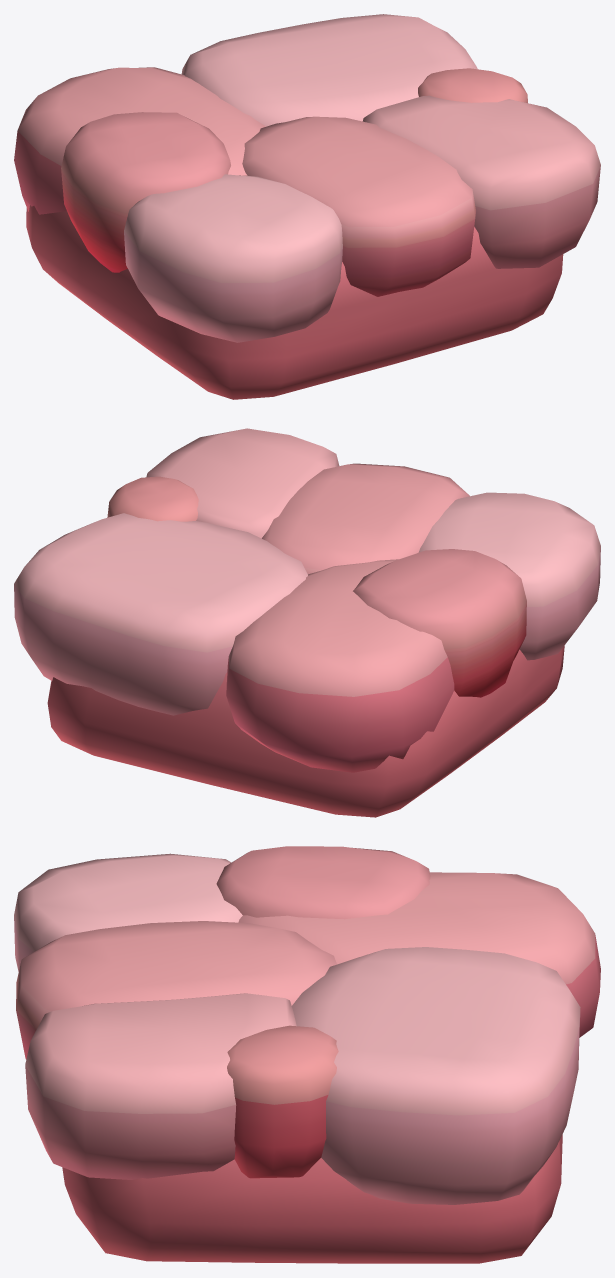
The model's file is Platform_B_06.glb.
The picture shows the model from 3 angles, top to bottom: view 1: azimuth 30°, elevation 25°; view 2: azimuth 150°, elevation 25°; view 3: azimuth 270°, elevation 25°; orthographic projection. The views are drawn at different scales.
Visible parts, largest first — view 1: Platform_B_06; view 2: Platform_B_06; view 3: Platform_B_06.
Part boxes in pixels (box(x1,y1,x2,y2)): Platform_B_06: box(14, 14, 600, 399); Platform_B_06: box(14, 428, 600, 817); Platform_B_06: box(14, 846, 600, 1263).
Bounding box in the file's own units: 7.05 × 3 × 6.93.
Materials: 1 (1 with a texture image).
